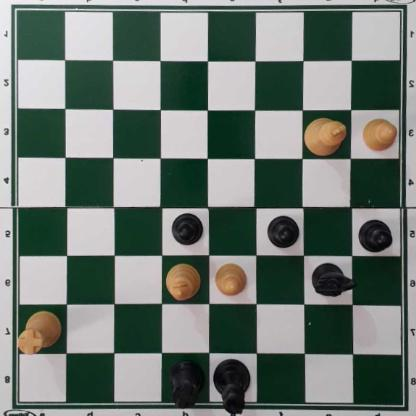black-king: (213, 358, 249, 415)
black-knight: (310, 263, 356, 299)
black-pawn: (170, 212, 205, 246), (357, 221, 391, 255), (266, 216, 298, 252)
black-rook: (166, 361, 204, 411)
white-bishop: (164, 263, 200, 304)
white-king: (303, 119, 345, 158)
white-pawn: (361, 119, 397, 155), (213, 264, 247, 299)
white-rook: (17, 311, 60, 354)
